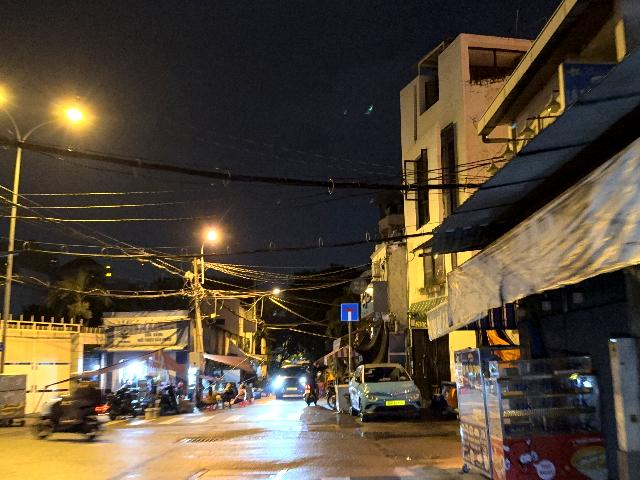duong-cut: (341, 303, 359, 321)
